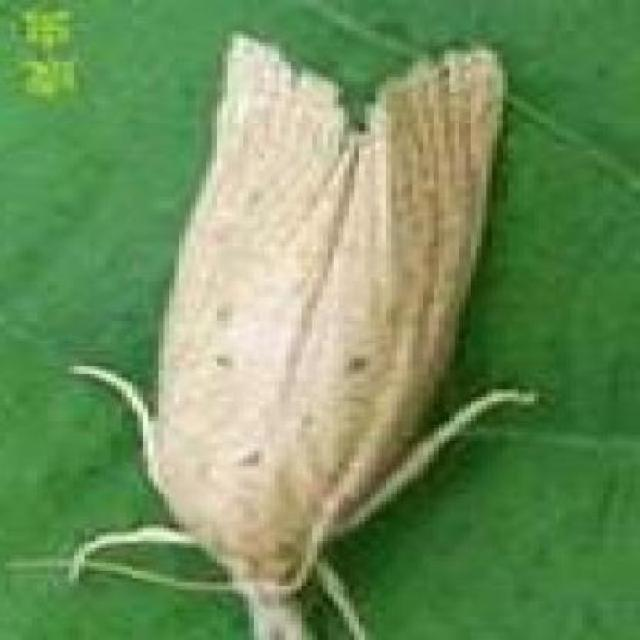stem-borer: (84, 34, 550, 640)
